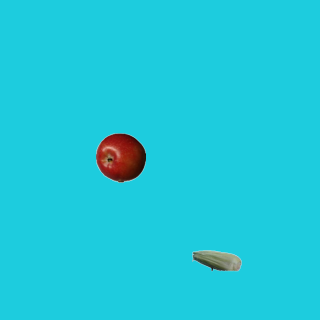Apple Braeburn: (95, 132, 145, 182)
Corn Husk: (191, 235, 241, 285)
